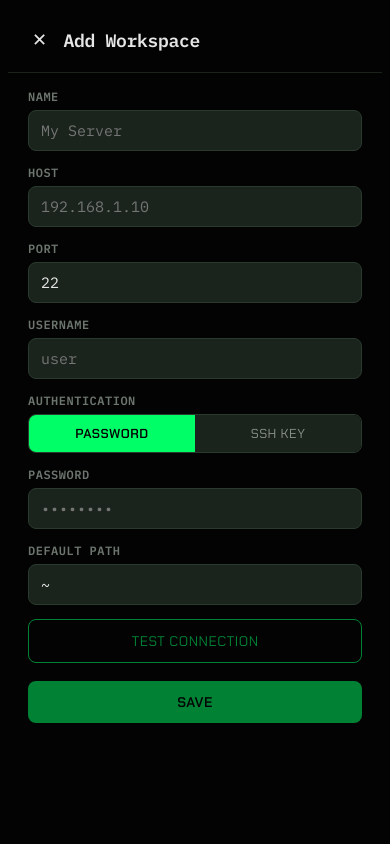
it: WorkspaceAddScreen host key prompt on Test Connection › offers the unknown host key, then succeeds and drops the session once trusted
The width and height of the screenshot is (390, 844).
Type "10.0.0.5" into the field with placeholder "192.168.1.10" at (195, 206), box x1=28 y1=186 x2=362 y2=227
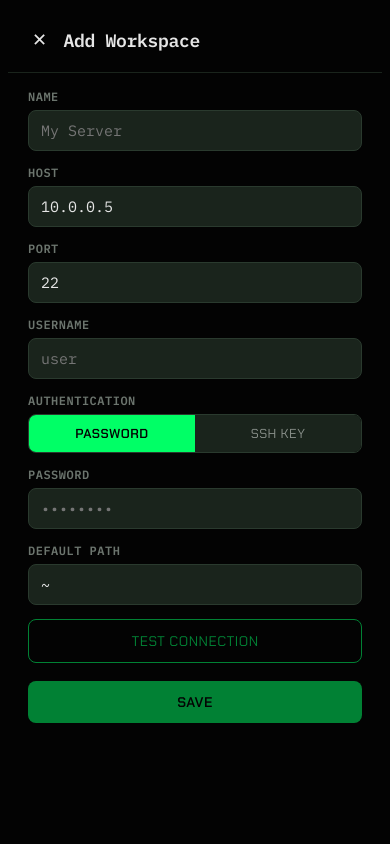
Type "root" into the field with placeholder "user" at (195, 358), box x1=28 y1=338 x2=362 y2=379
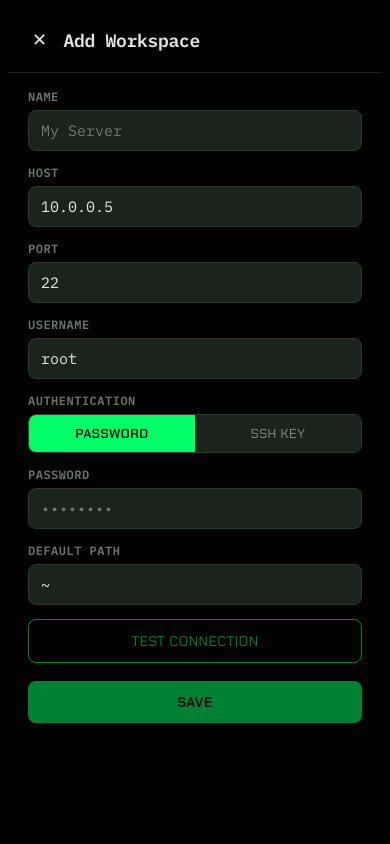
Type "hunter2" into the password field with placeholder "••••••••" at (195, 508), box x1=28 y1=488 x2=362 y2=529
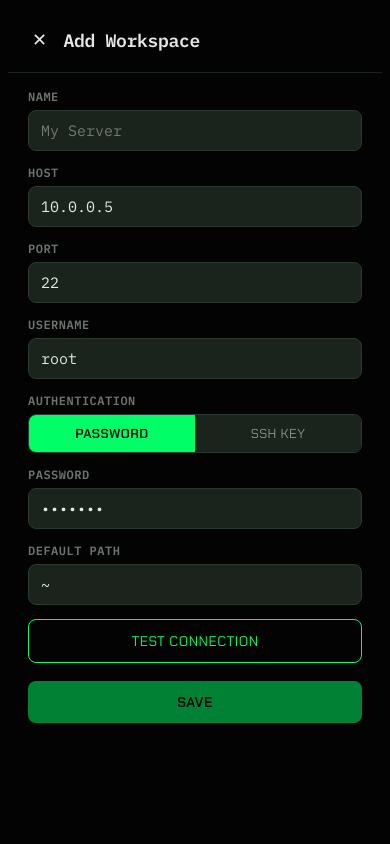
Click the button "Test Connection" at (195, 641), box x1=28 y1=619 x2=362 y2=663
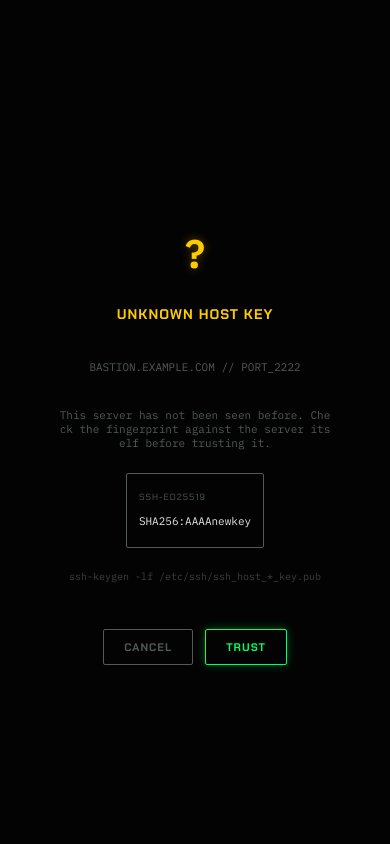
Expected: the text "Unknown Host Key" is shown, x1=117 y1=305 x2=273 y2=323
Expected: the text "SHA256:AAAAnewkey" is shown, x1=139 y1=514 x2=251 y2=528
Click the button "Trust" at (246, 647), box x1=205 y1=629 x2=287 y2=665
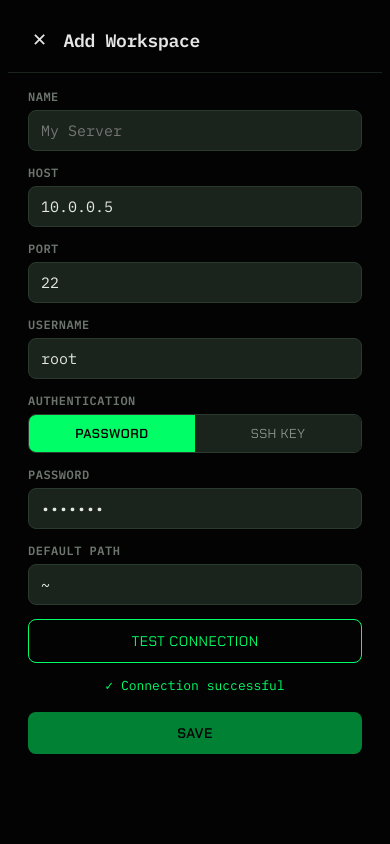
Expected: the text "✓ Connection successful" is shown, x1=105 y1=677 x2=285 y2=694
